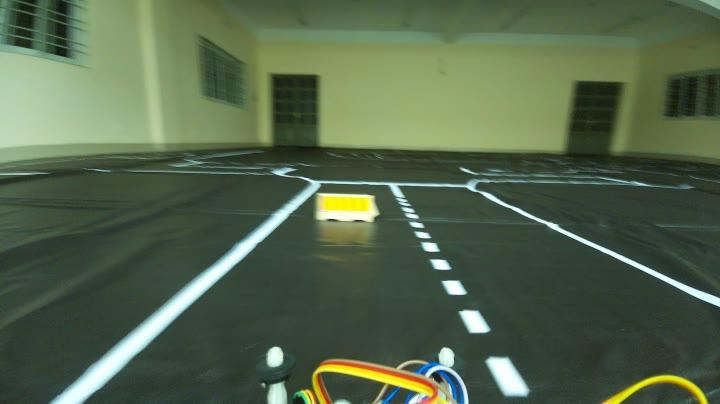roadblock: (308, 184, 383, 227)
